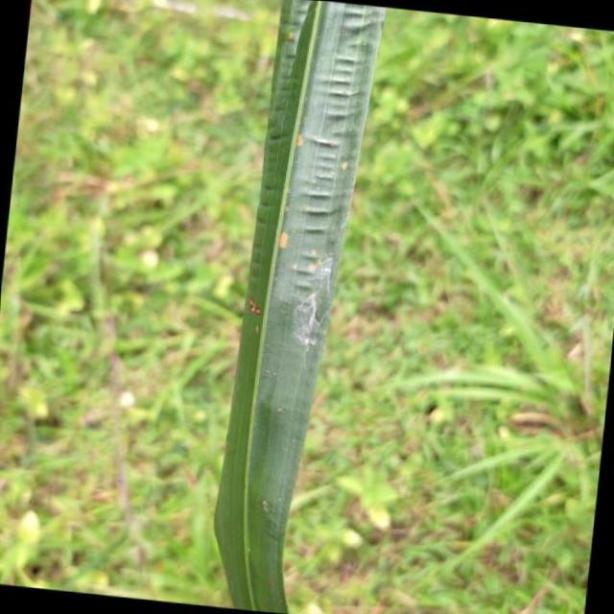Boron: (211, 0, 382, 614)
